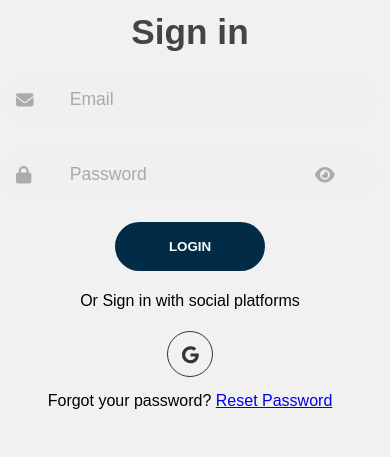
Test case: LoginForm › submits form with invalid credentials, catches errors, and displays error message
Step 1. Type "wrong@example.com" into the field with placeholder "Email" → (222, 100), box [70, 89, 374, 110]
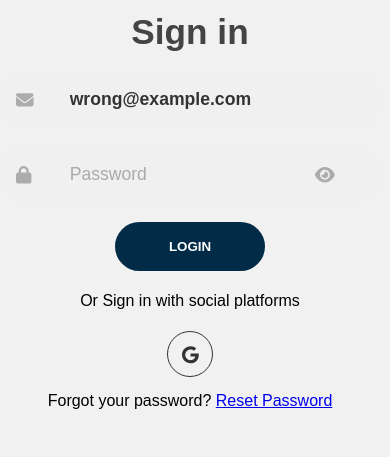
Step 2. Type "wrongpassword" into the password field with placeholder "Password" → (222, 174), box [70, 164, 374, 185]
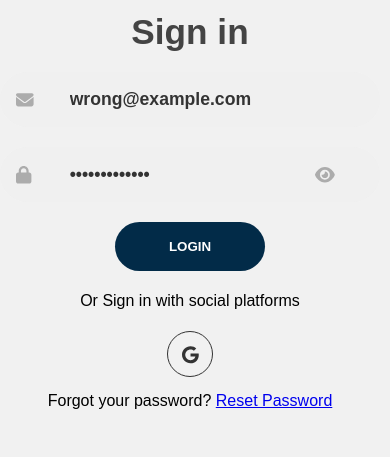
Step 3. Click the button "Login" → (190, 246), box [115, 222, 265, 271]
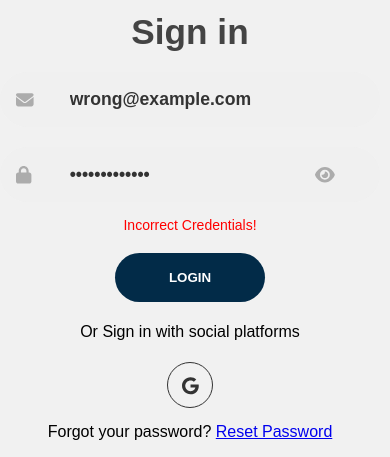
Expected: the text "Incorrect Credentials!" is shown, [124, 217, 257, 233]
